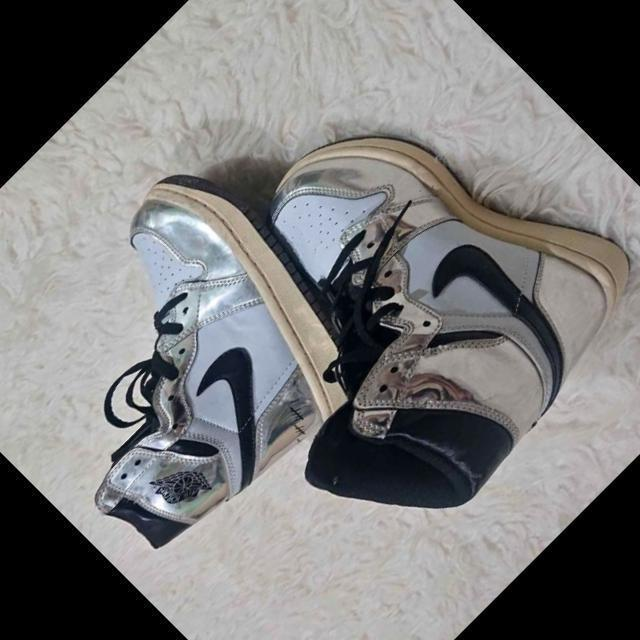nike fake jordan 1: (139, 39, 640, 574), (0, 145, 396, 582)
